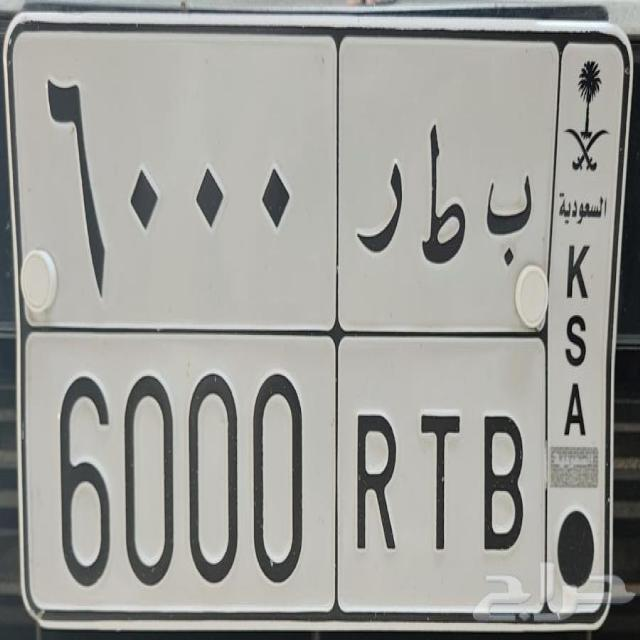license_plate: (17, 323, 552, 618)
